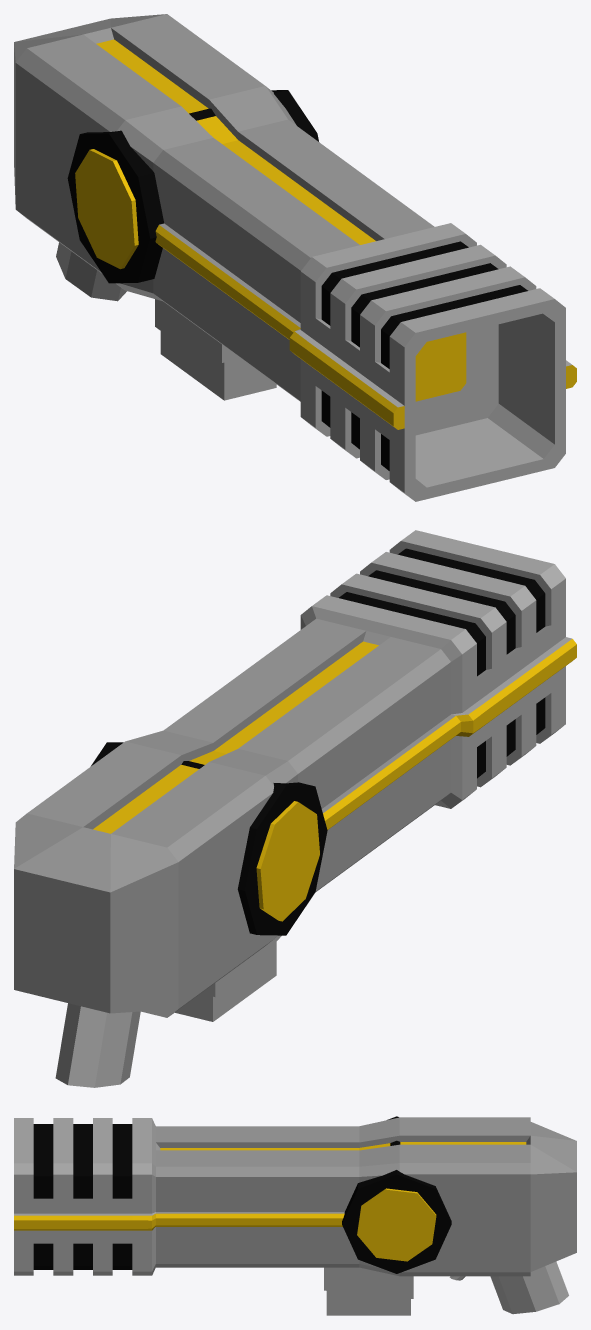
The model's file is plasma.fbx.
3 renders of one model, top to bottom at view 1: azimuth 30°, elevation 25°; view 2: azimuth 150°, elevation 25°; view 3: azimuth 270°, elevation 25°, orthographic. The views are drawn at different scales.
Parts seen in each view (by area): view 1: pCube2, pCylinder1, pCylinder2, pCube3, pCylinder3; view 2: pCube2, pCylinder3, pCylinder2, pCylinder1, pCube3; view 3: pCube2, pCylinder2, pCylinder1, pCube3, pCylinder3.
Part boxes in pixels (<box>): pCube2: <box>14,14,576,501</box>; pCylinder1: <box>67,90,318,283</box>; pCylinder2: <box>75,149,138,269</box>; pCube3: <box>155,299,276,400</box>; pCylinder3: <box>56,242,126,301</box>; pCube2: <box>14,530,576,1017</box>; pCylinder3: <box>55,1003,140,1087</box>; pCylinder2: <box>256,801,319,921</box>; pCylinder1: <box>90,742,327,935</box>; pCube3: <box>175,935,281,1021</box>; pCube2: <box>14,1117,576,1276</box>; pCylinder2: <box>357,1188,436,1261</box>; pCylinder1: <box>342,1116,451,1273</box>; pCube3: <box>324,1267,413,1315</box>; pCylinder3: <box>490,1261,568,1314</box>.
Bounding box in the file's own units: 1.16 × 1.51 × 4.54.
